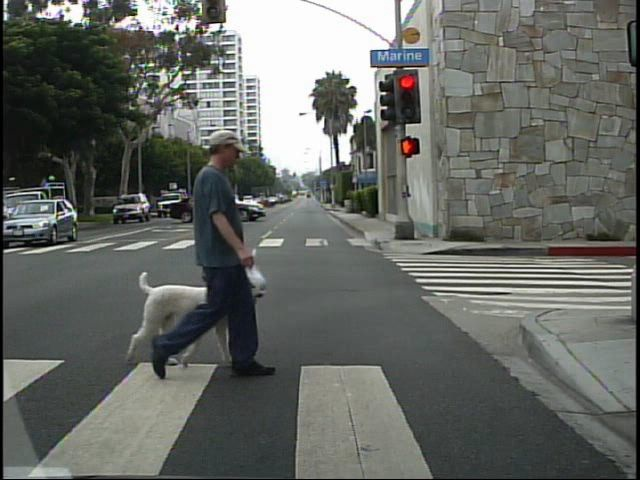person: (133, 119, 277, 386)
